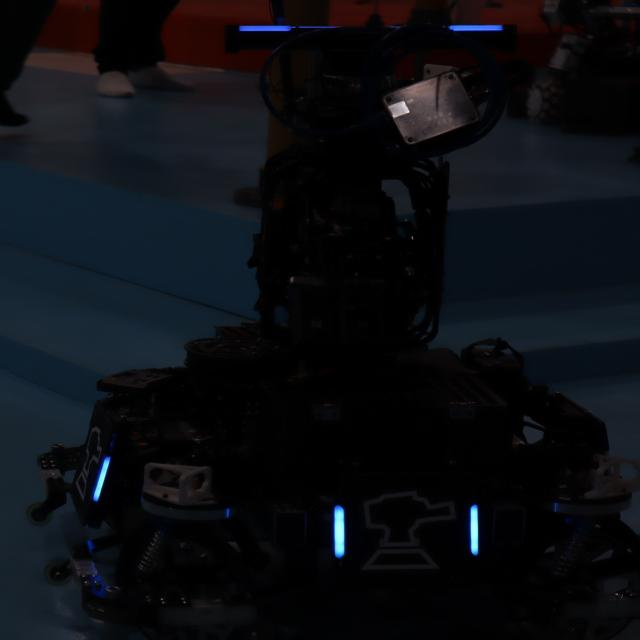Bs: (327, 489, 483, 578), (70, 422, 120, 508)
